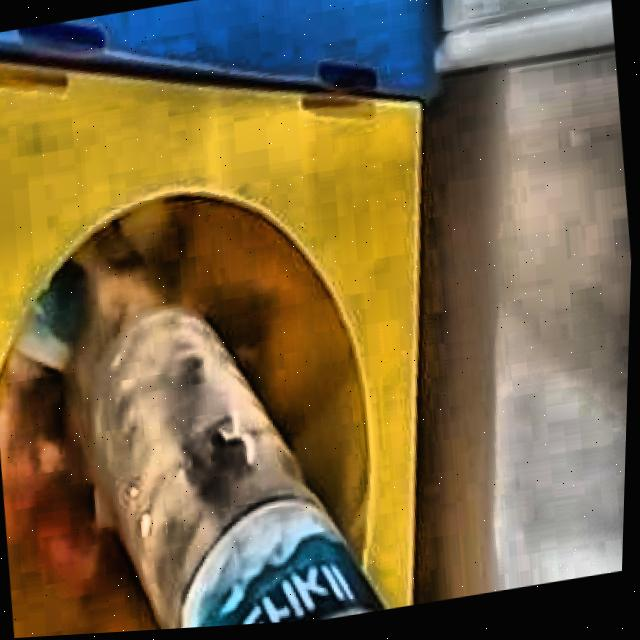plastic: (90, 310, 385, 632)
